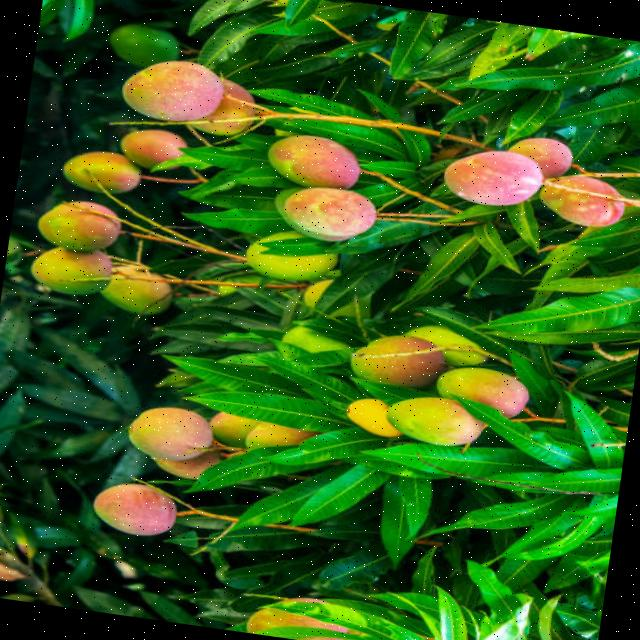mango: (121, 61, 223, 121), (444, 151, 542, 206), (274, 188, 375, 241), (540, 176, 640, 227), (350, 335, 446, 388), (267, 135, 358, 190), (386, 397, 483, 446), (436, 368, 529, 418), (128, 407, 211, 460), (93, 483, 176, 536), (38, 201, 121, 252), (30, 247, 110, 295), (101, 262, 171, 314), (194, 79, 254, 136), (63, 151, 140, 194), (120, 129, 185, 168), (509, 139, 570, 177), (151, 451, 219, 480)
